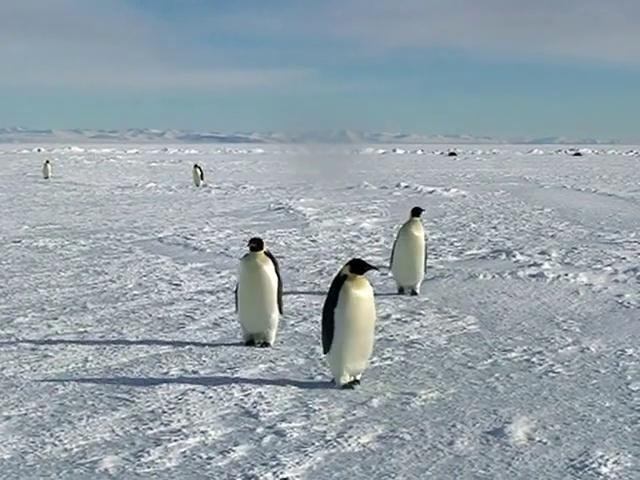animal: (391, 207, 429, 296)
